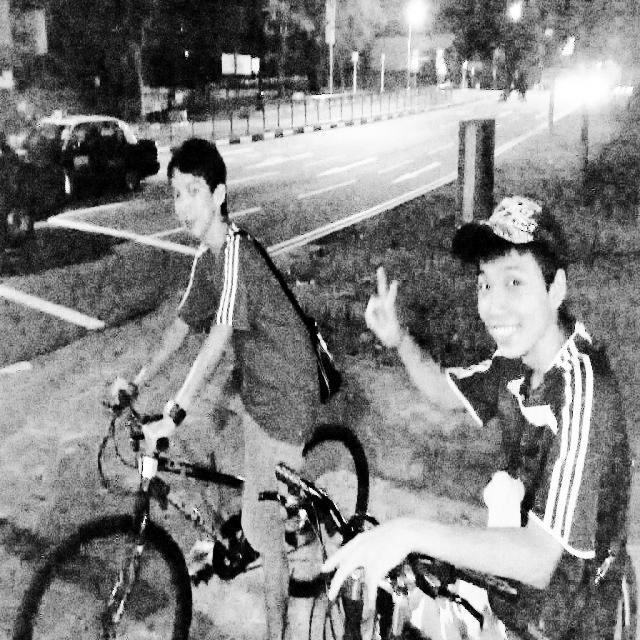Bicycle: (48, 427, 403, 616), (367, 522, 640, 640)
Car: (42, 90, 181, 232)
Person: (431, 150, 621, 614), (159, 103, 299, 539)
